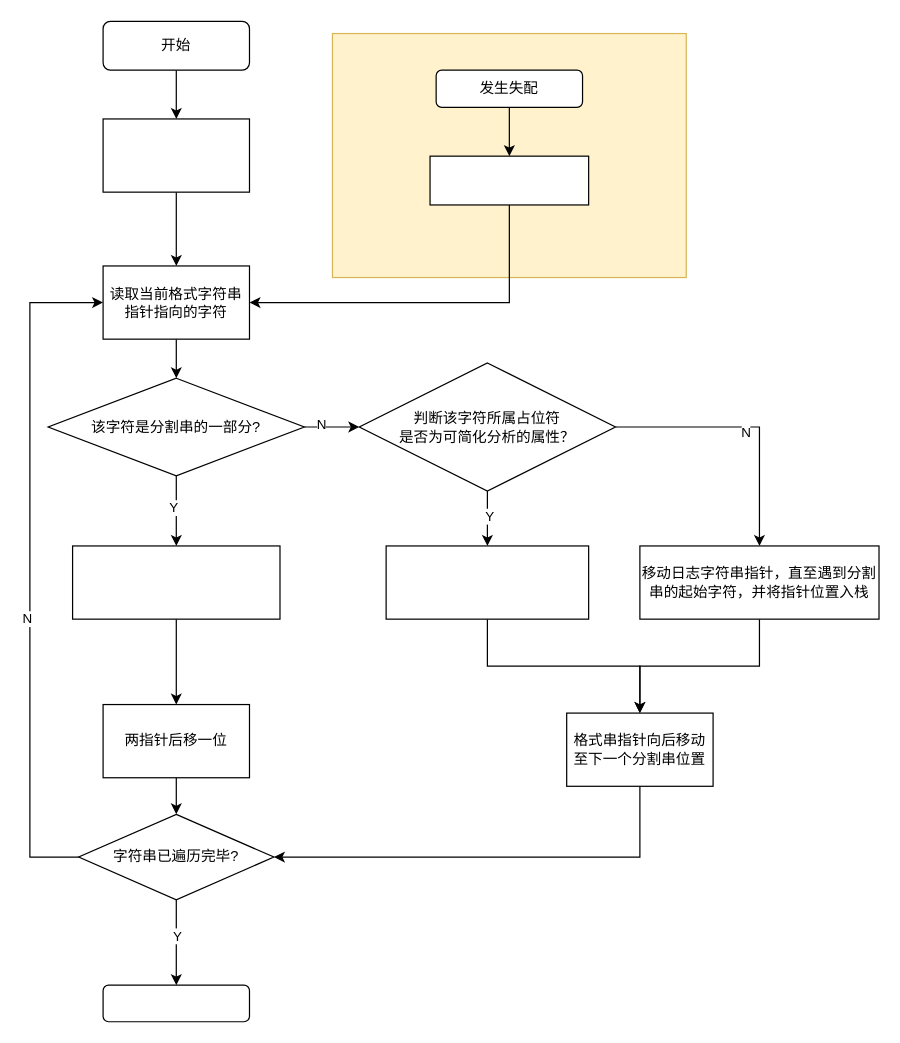
The diagram is 900 pixels wide and 1043 high, and some of its shapes have lost their labels. Here are the shapes that lost their labels. From the top down, the box of each, then its label:
(102, 118, 249, 192): 格式字符串预处理与双指针初始化
(429, 155, 589, 205): 出栈，将指针位置回溯
(71, 545, 280, 619): 检查该字符与日志字符串指针所指字符是否匹配
(385, 545, 589, 619): 直接截取字符串或 读取首字符以解析属性
(102, 984, 249, 1022): 结束
